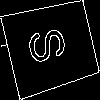S: (26, 22, 76, 67)
